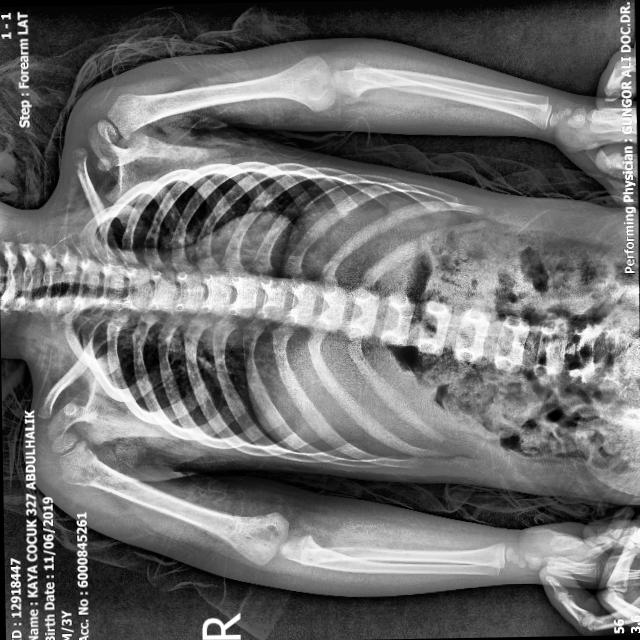Fracture: (219, 506, 242, 548)
